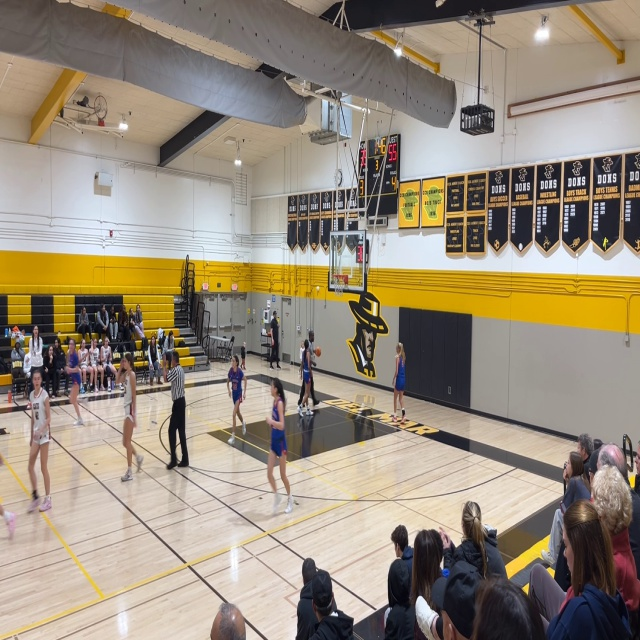Basketball: (314, 347, 321, 357)
